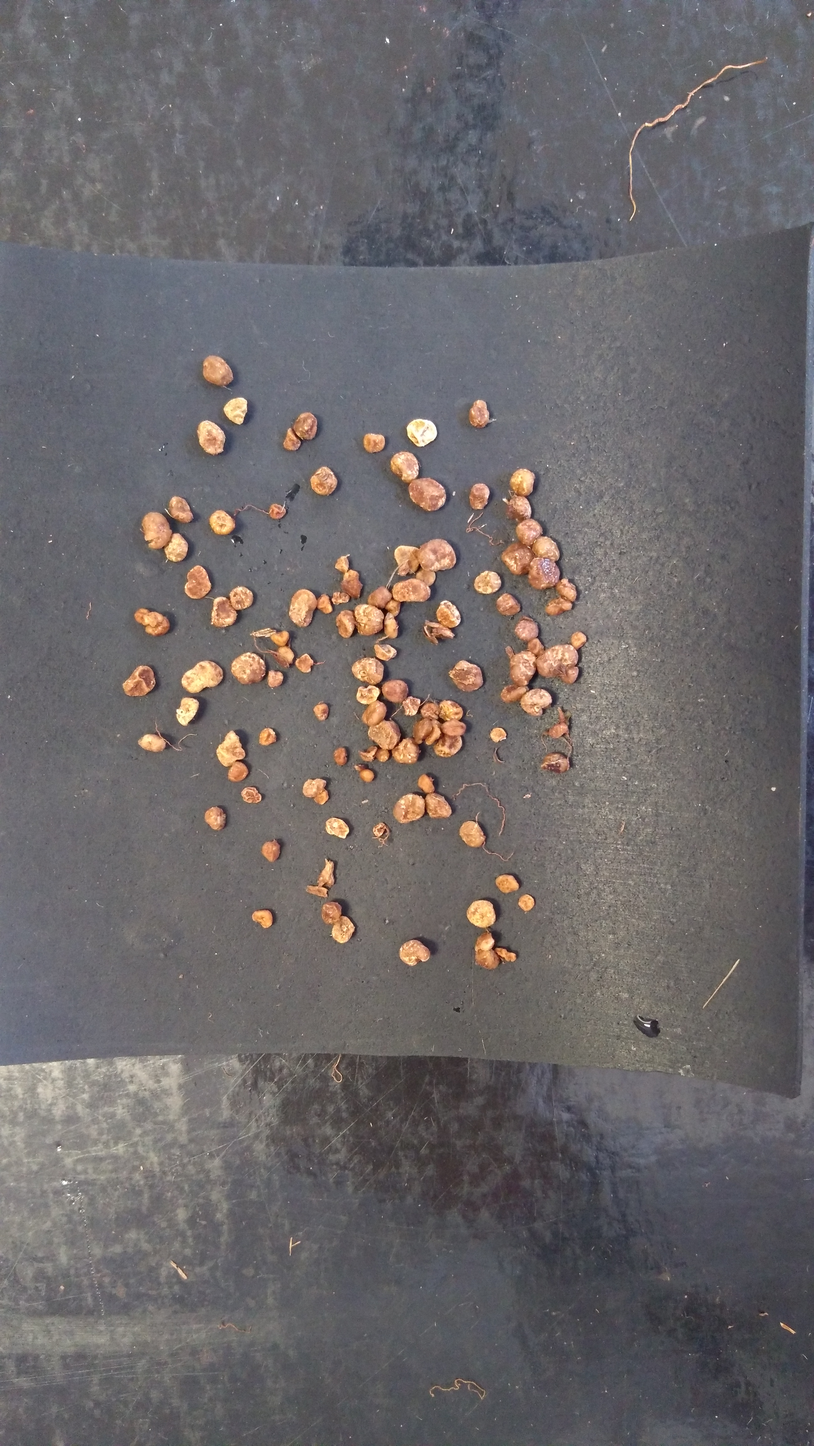nodule: (532, 638, 580, 687), (416, 533, 460, 574), (285, 581, 319, 633), (136, 507, 175, 552), (405, 475, 449, 514), (194, 416, 231, 461), (198, 350, 238, 391), (117, 662, 159, 701), (179, 660, 224, 696), (462, 393, 498, 435), (524, 554, 563, 592), (501, 539, 537, 580), (396, 937, 437, 973), (350, 602, 389, 639), (328, 913, 364, 953), (403, 417, 446, 450), (181, 562, 214, 605), (364, 718, 403, 754), (390, 575, 435, 606), (230, 651, 267, 688), (391, 790, 426, 828), (448, 660, 486, 694), (214, 730, 247, 769), (305, 463, 339, 500), (387, 450, 424, 484), (507, 649, 537, 690), (505, 464, 538, 501), (205, 503, 237, 541), (465, 896, 500, 930), (207, 593, 239, 630), (537, 748, 575, 779), (347, 657, 386, 687), (337, 565, 367, 604), (520, 685, 554, 719), (457, 817, 488, 854), (165, 492, 196, 528), (357, 699, 394, 729), (390, 735, 423, 768), (500, 493, 534, 525), (291, 406, 321, 442), (221, 393, 253, 426), (512, 515, 544, 548), (529, 533, 563, 564), (333, 607, 363, 642), (510, 614, 542, 646), (420, 792, 455, 821), (378, 676, 410, 706), (436, 597, 464, 631), (541, 592, 576, 619), (498, 681, 533, 708), (162, 529, 189, 564), (133, 733, 172, 757), (358, 427, 390, 456), (466, 947, 503, 972), (471, 569, 506, 595), (227, 582, 257, 612), (465, 480, 492, 513), (490, 869, 523, 896), (318, 895, 345, 927), (174, 694, 200, 727), (262, 664, 289, 695), (486, 724, 515, 752), (554, 573, 581, 603), (495, 592, 523, 620), (408, 716, 435, 745), (320, 814, 351, 839), (300, 775, 331, 799), (260, 835, 283, 867), (328, 743, 351, 774), (436, 695, 463, 721), (354, 682, 382, 707), (365, 583, 394, 607), (292, 649, 316, 678), (368, 816, 391, 846), (440, 716, 470, 739), (397, 692, 423, 718), (413, 769, 439, 794), (413, 564, 441, 587), (313, 589, 336, 617), (382, 610, 401, 643), (357, 740, 381, 766), (273, 642, 297, 668), (266, 626, 293, 649), (144, 616, 171, 639), (566, 628, 590, 653), (203, 806, 227, 831), (281, 427, 304, 453), (523, 635, 547, 659), (472, 930, 497, 953), (249, 908, 275, 930), (546, 719, 571, 741), (515, 892, 540, 914), (372, 641, 398, 662), (331, 553, 354, 576), (419, 697, 443, 719), (493, 943, 519, 963), (423, 718, 443, 744), (227, 761, 250, 783), (257, 726, 279, 748), (356, 766, 380, 786), (310, 786, 334, 806), (328, 589, 352, 609), (265, 503, 288, 522), (239, 786, 262, 805), (384, 596, 404, 617), (311, 702, 332, 721), (132, 606, 152, 625), (142, 611, 165, 627), (375, 747, 392, 765)
